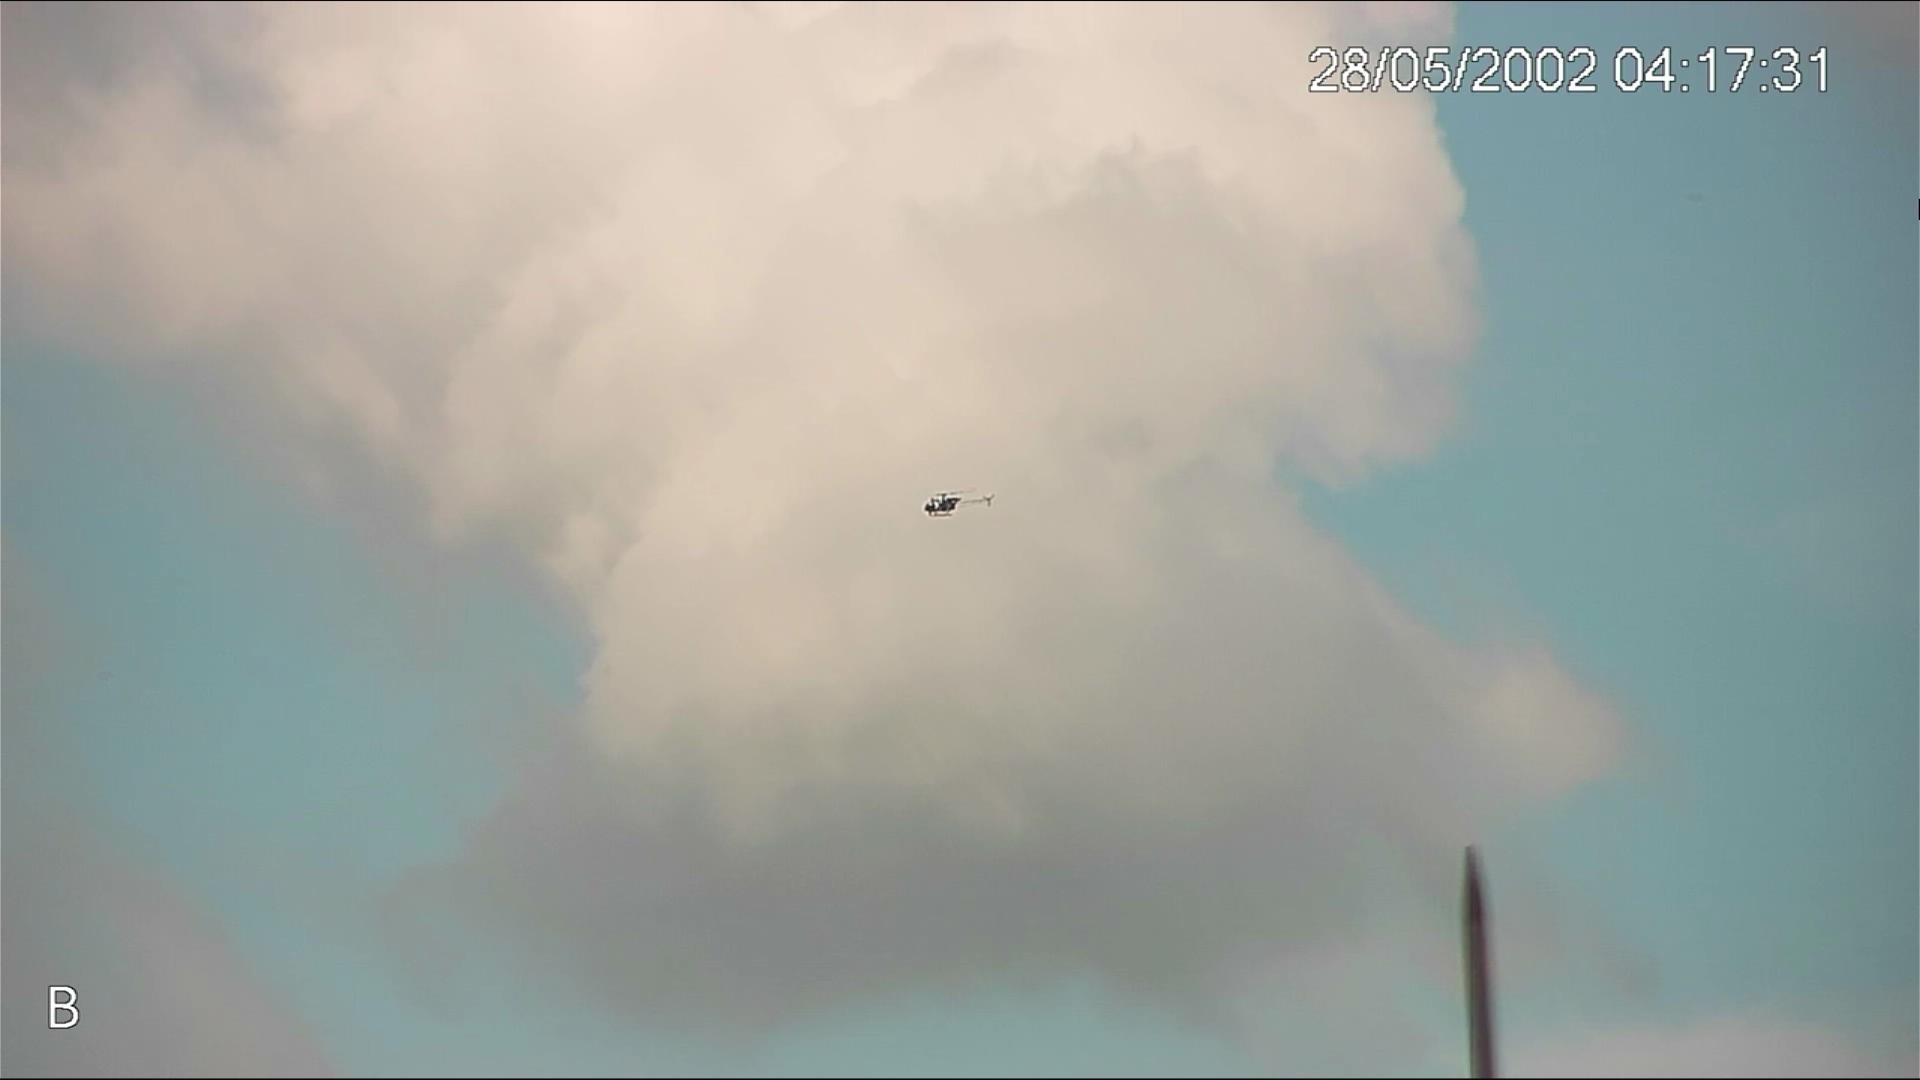SU_30: (923, 488, 1001, 521)
